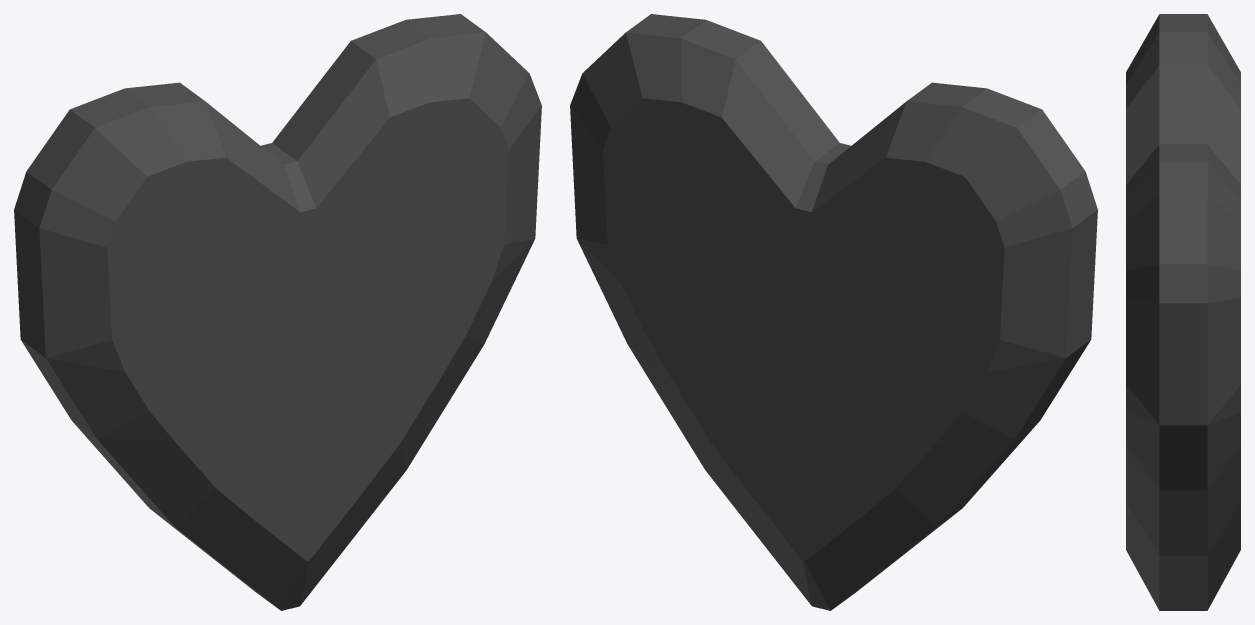
File: armor_health.glb
3 renders of one model, left to right at view 1: azimuth 30°, elevation 25°; view 2: azimuth 150°, elevation 25°; view 3: azimuth 270°, elevation 25°, orthographic. The views are drawn at different scales.
Parts seen in each view (by area): view 1: ArmorHealth; view 2: ArmorHealth; view 3: ArmorHealth.
Part boxes in pixels (box(x1,y1,x2,y2)): ArmorHealth: box(14, 14, 541, 610); ArmorHealth: box(570, 14, 1097, 610); ArmorHealth: box(1126, 14, 1240, 610).
Bounding box in the file's own units: 0.2228 × 0.227 × 0.0464.
Materials: 1 (1 with a texture image).
